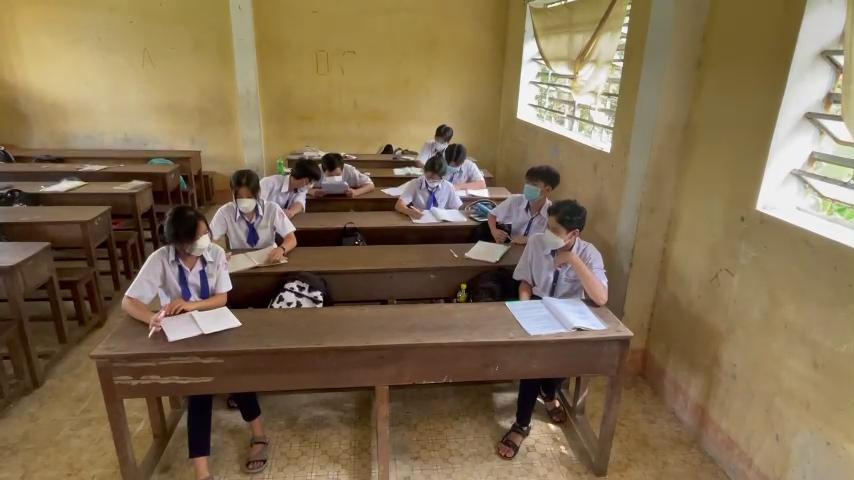Look Around: (532, 194, 600, 251), (505, 152, 573, 209), (155, 203, 223, 260), (276, 144, 327, 205), (438, 179, 463, 215)
